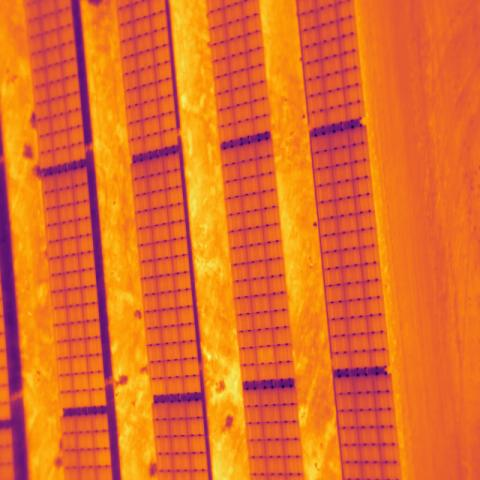fault: (255, 345, 276, 365)
